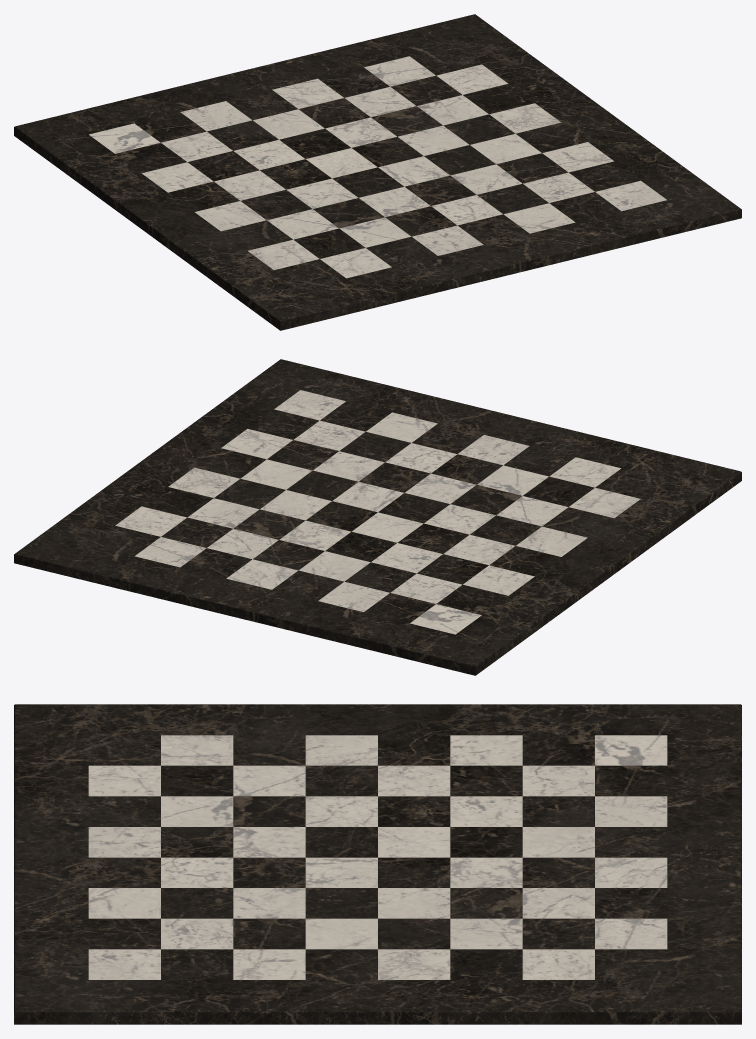
Rendered from tahta_mermer.glb.
The picture shows the model from 3 angles, top to bottom: view 1: azimuth 30°, elevation 25°; view 2: azimuth 150°, elevation 25°; view 3: azimuth 270°, elevation 25°; orthographic projection. The views are drawn at different scales.
Visible parts, largest first — view 1: SM_Board; view 2: SM_Board; view 3: SM_Board.
Part boxes in pixels (x1,y1,x2,y2): SM_Board: [14, 14, 741, 330]; SM_Board: [14, 359, 741, 675]; SM_Board: [14, 704, 741, 1024].
Bounding box in the file's own units: 10.06 × 0.2025 × 10.06.
Materials: 2 (2 with a texture image).
